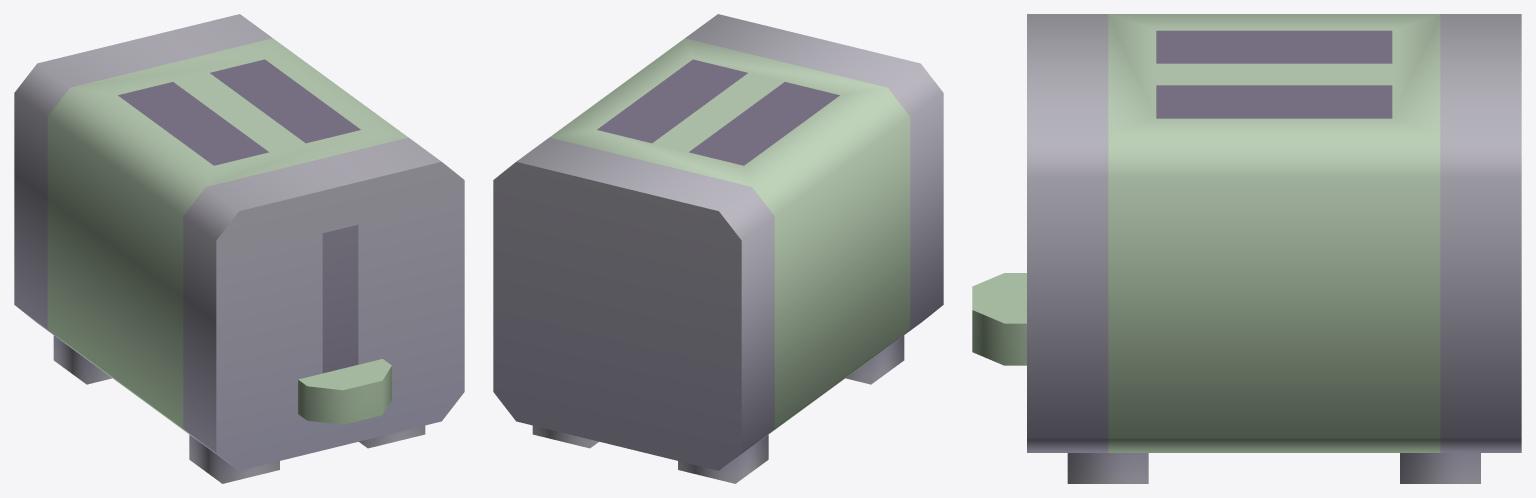
File: toaster.glb
3 renders of one model, left to right at view 1: azimuth 30°, elevation 25°; view 2: azimuth 150°, elevation 25°; view 3: azimuth 270°, elevation 25°, orthographic. The views are drawn at different scales.
Visible parts, largest first — view 1: toaster; view 2: toaster; view 3: toaster.
Part boxes in pixels (x1,y1,x2,y2): toaster: [14, 14, 464, 483]; toaster: [493, 14, 943, 483]; toaster: [972, 14, 1521, 483].
Size of the model in its own units: 0.164 by 0.1799 by 0.2567.
